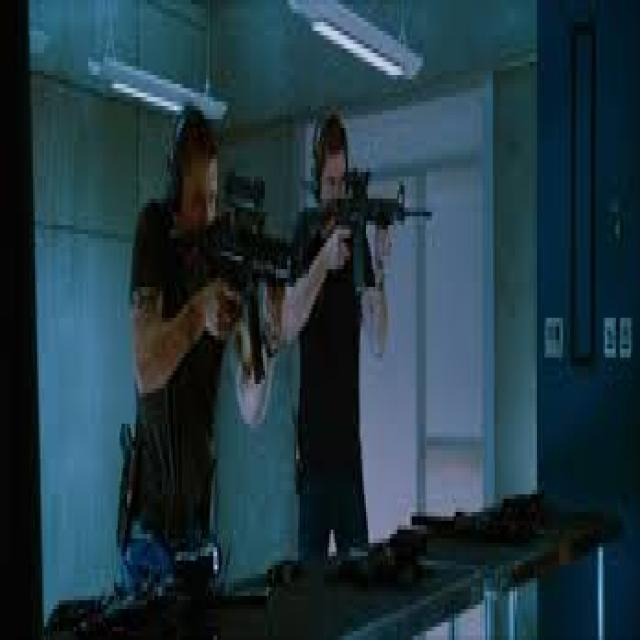Rifle: (160, 166, 310, 388), (304, 170, 434, 285)
